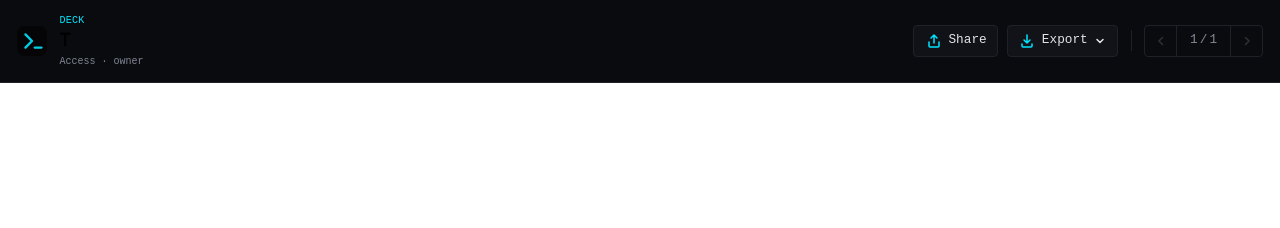
Test: PresentationDeckHeader › renders standalone actions and grouped export dropdown
Expected: the button "Share" is shown, x1=914 y1=25 x2=998 y2=57
Click the button "Export" at (1062, 41), box x1=1007 y1=25 x2=1118 y2=57
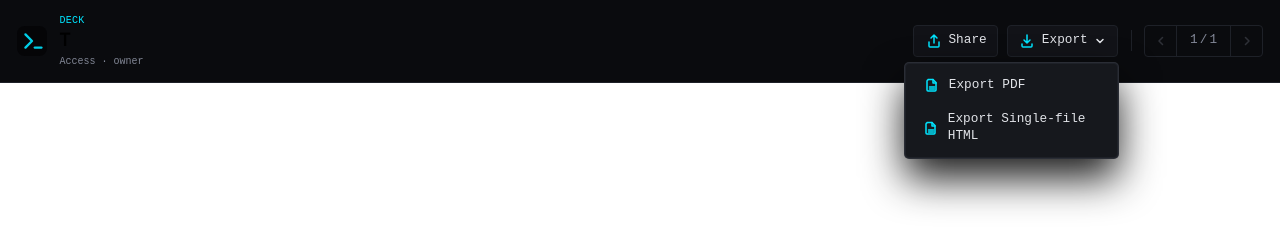
Result: the menu item "Export PDF" is shown at x1=910 y1=68 x2=1112 y2=102
Result: the menu item "Export Single-file HTML" is shown at x1=910 y1=102 x2=1112 y2=153
